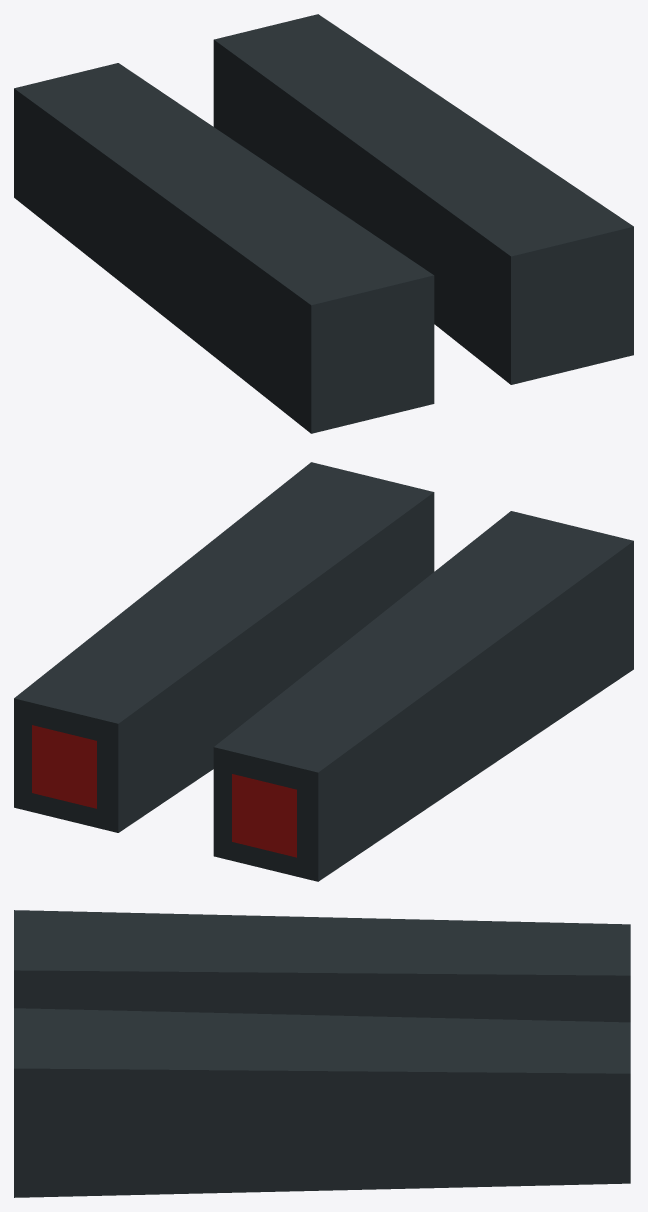
3 renders of one model, top to bottom at view 1: azimuth 30°, elevation 25°; view 2: azimuth 150°, elevation 25°; view 3: azimuth 270°, elevation 25°, orthographic.
Visible parts, largest first — view 1: mount; view 2: mount; view 3: mount.
Part boxes in pixels (left/top/right/bottom): mount: left=14, top=14, right=633, bottom=433; mount: left=14, top=462, right=633, bottom=881; mount: left=14, top=910, right=630, bottom=1197.
Size of the model in its own units: 3.34 by 1.27 by 5.53.
